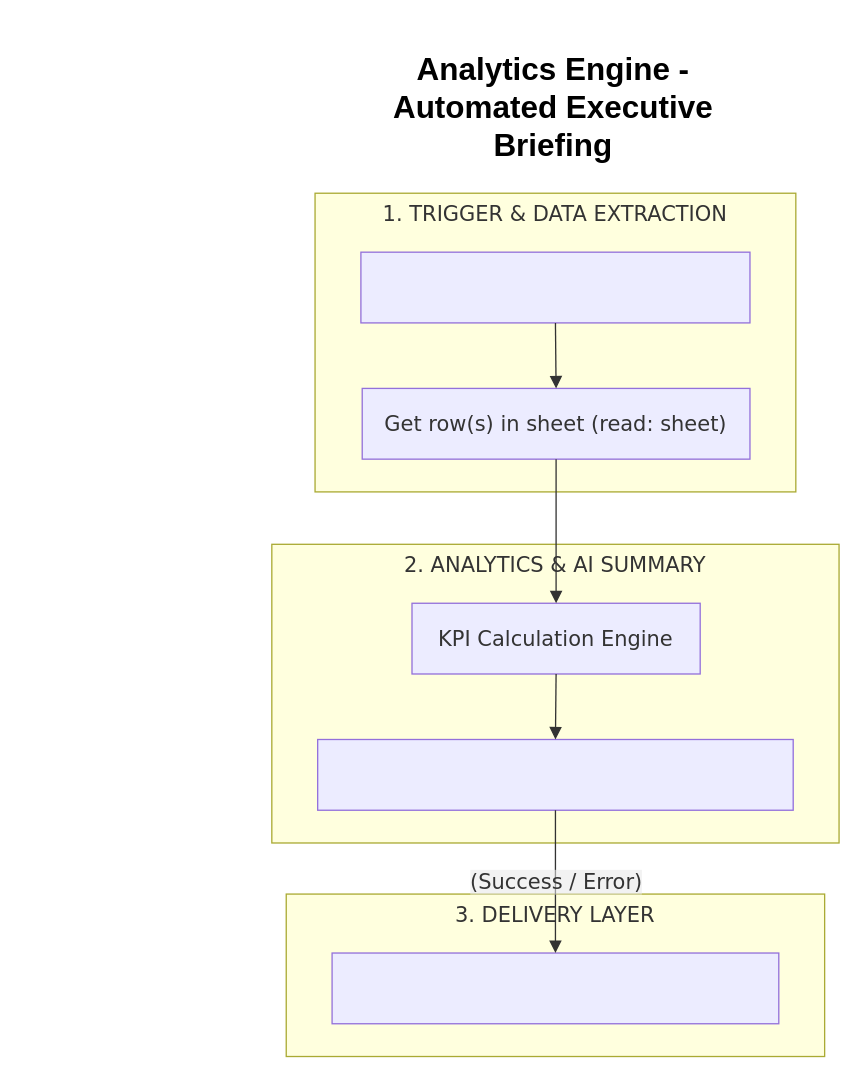
This 862x1079 diagram has some shape labels left out. The shapes that lost their labels are listed below. From the top down, each one's centre as x and y in pixels, then its label:
At (555,287): "When clicking 'Execute workflow'".
At (554,774): "Groq Executive Summary (POST: Groq API)".
At (555,988): "Deliver Executive Briefing (Send Email)".
